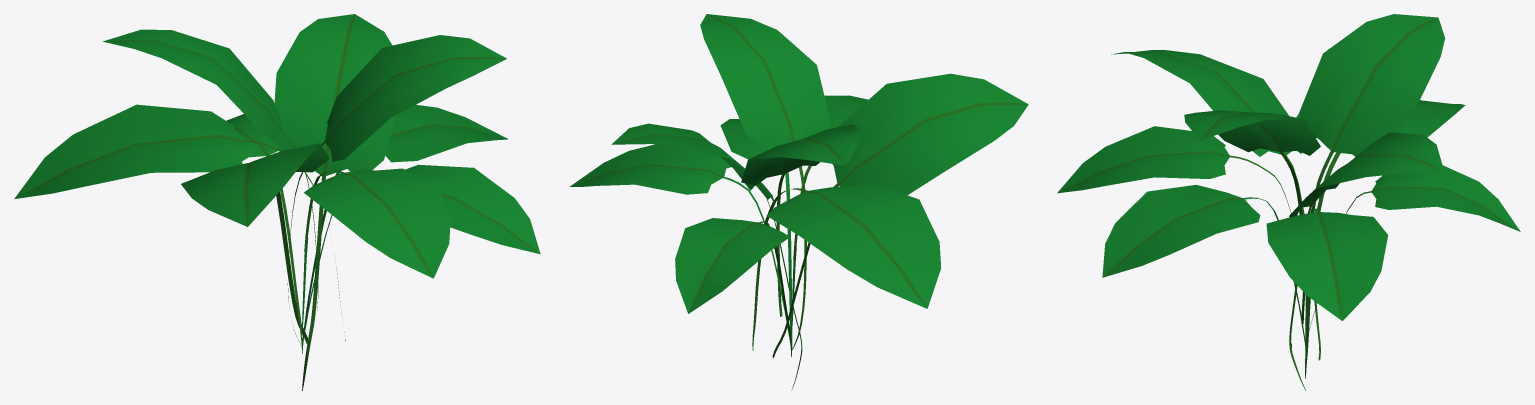
Rendered from SM_Medium_Plant_A.fbx.
The picture shows the model from 3 angles, left to right: view 1: azimuth 30°, elevation 25°; view 2: azimuth 150°, elevation 25°; view 3: azimuth 270°, elevation 25°; orthographic projection. The views are drawn at different scales.
Visible parts, largest first — view 1: SM_Medium_Plant_A.001; view 2: SM_Medium_Plant_A.001; view 3: SM_Medium_Plant_A.001.
Boxes of the visible parts, left/top/right/bottom form: SM_Medium_Plant_A.001: left=14, top=14, right=540, bottom=390; SM_Medium_Plant_A.001: left=570, top=14, right=1028, bottom=390; SM_Medium_Plant_A.001: left=1057, top=14, right=1520, bottom=390.
Size of the model in its own units: 188 by 179 by 139.
